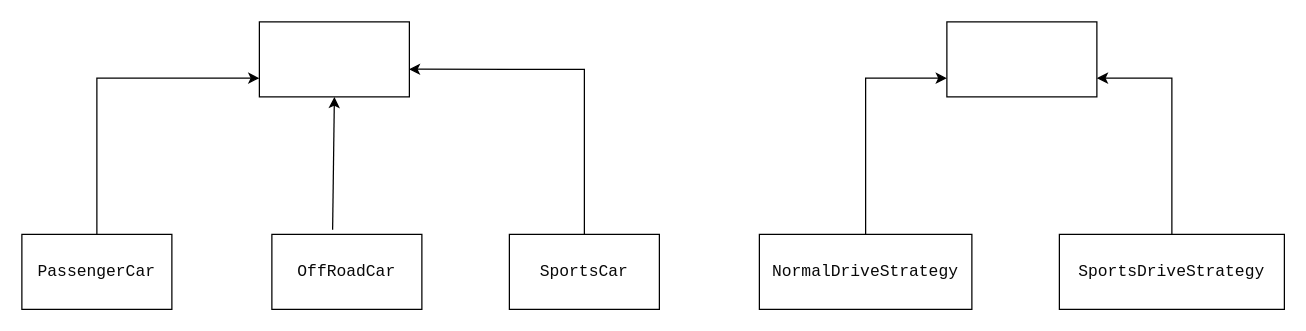
Image size: 1306x331. Some labels were removed from this diagram. The centre of each missing label's shape, as x and y in pixels:
"DriveStrategy" goes at point 1021,59.
"Vehicle" goes at point 333,59.
